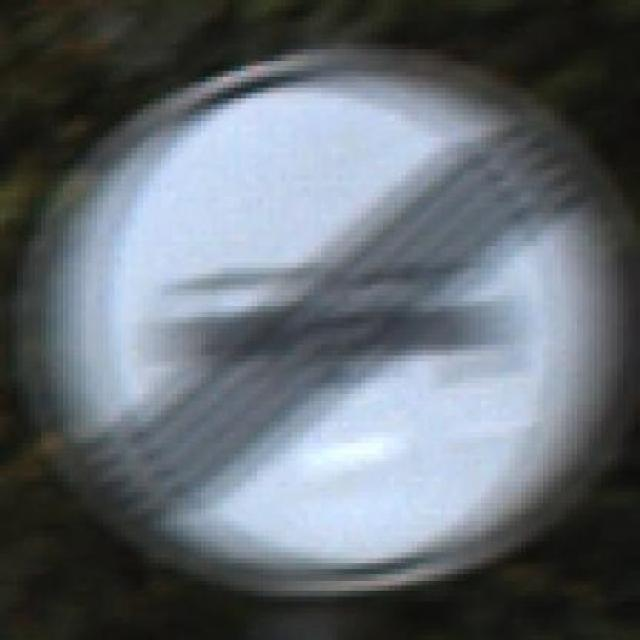No_Over_Taking: (28, 50, 634, 612)
